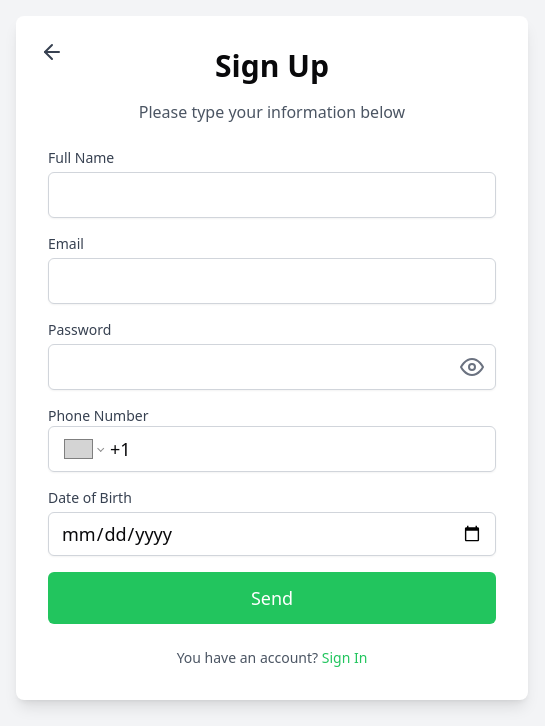
it: Login Form › should show and hide password when clicking the toggle button
Step 1. Type "TestPassword" into the password field with test id "password" → coordinates (272, 367), box [48, 344, 496, 390]
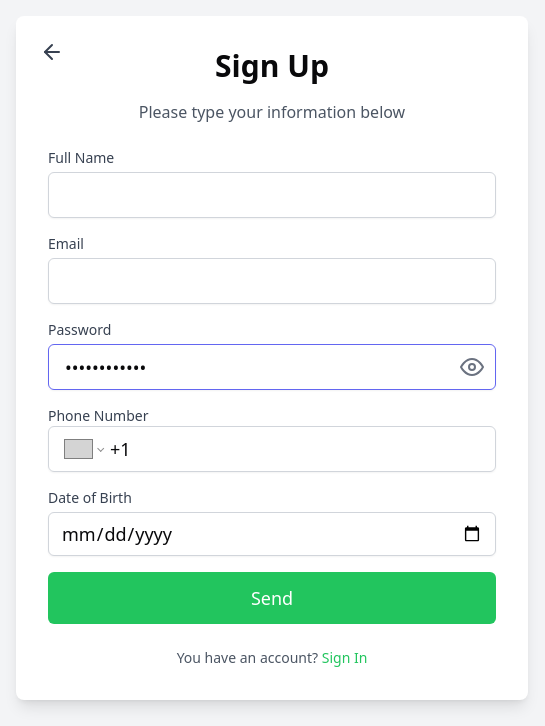
Step 2. Click the button with test id "toggle-password" → coordinates (472, 367), box [460, 344, 484, 390]
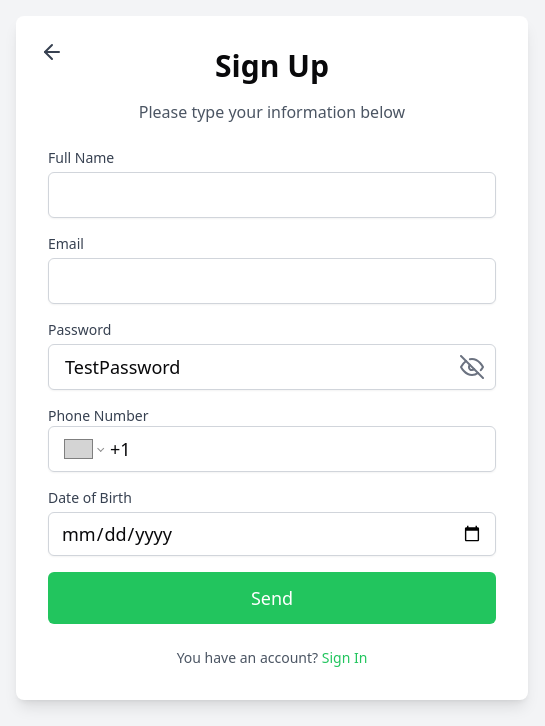
Result: the field with test id "password" shows its text at [48, 344, 496, 390]
Step 3. Click the button with test id "toggle-password" → coordinates (472, 367), box [460, 344, 484, 390]
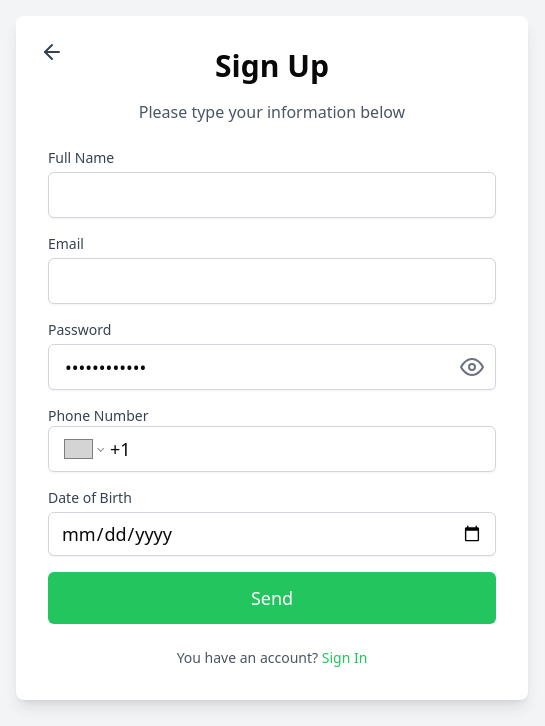
Result: the password field with test id "password" hides its text at [48, 344, 496, 390]
